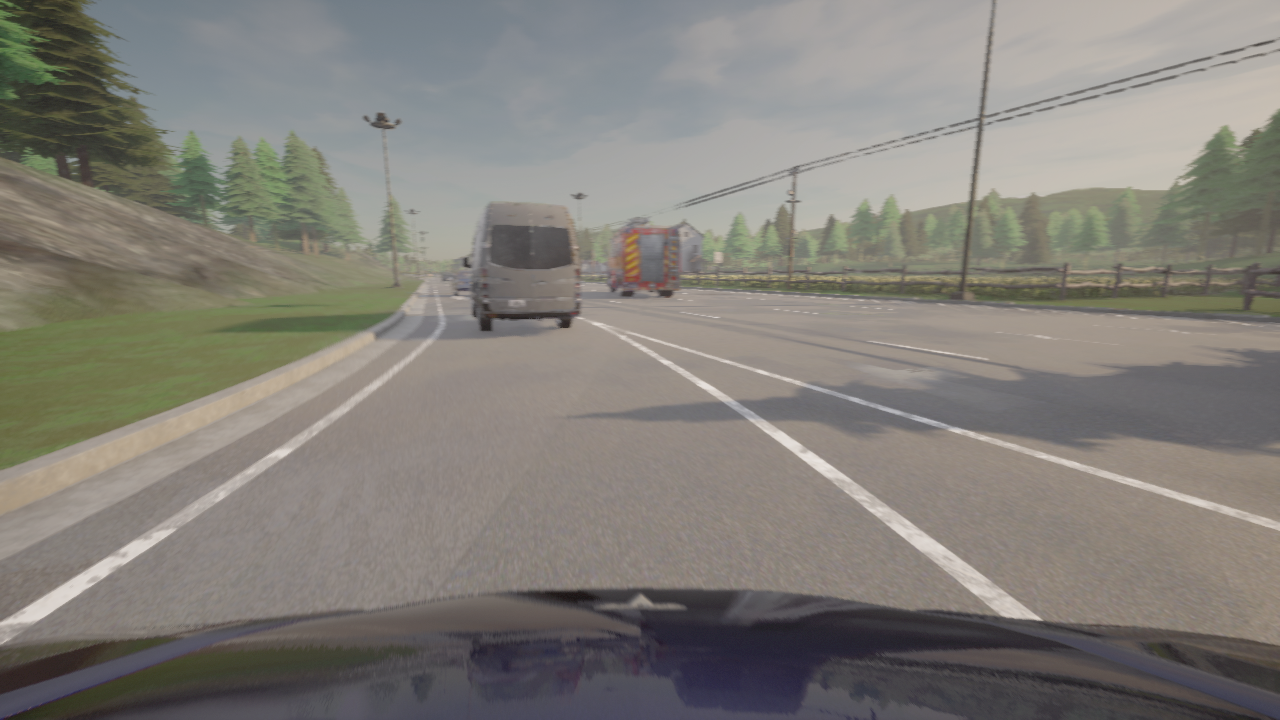cyclist: (0, 588, 1279, 719), (462, 202, 580, 331), (603, 218, 679, 296), (450, 270, 470, 296), (440, 271, 454, 282)
